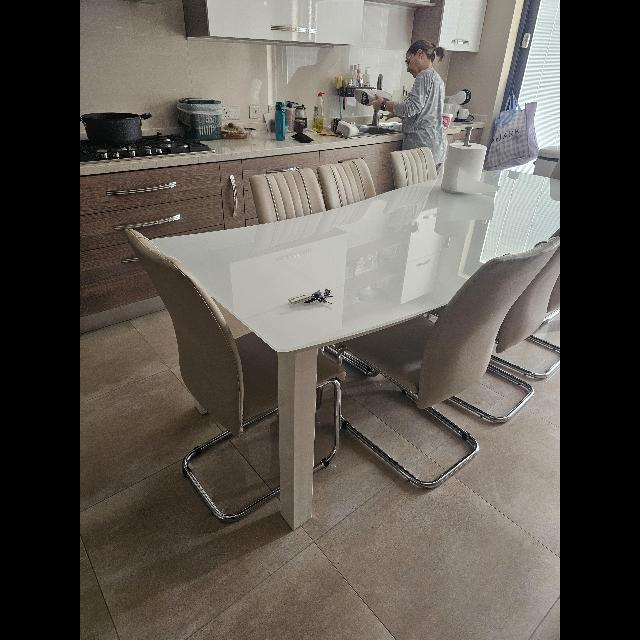Keys: (288, 288, 329, 306)
